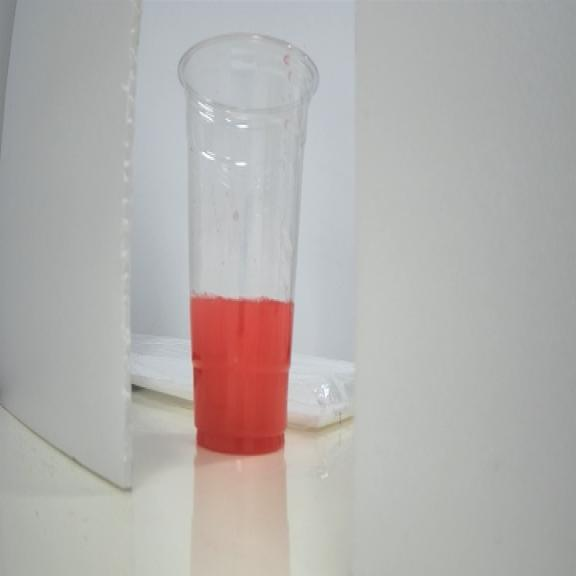Plastik: (179, 34, 318, 454)
